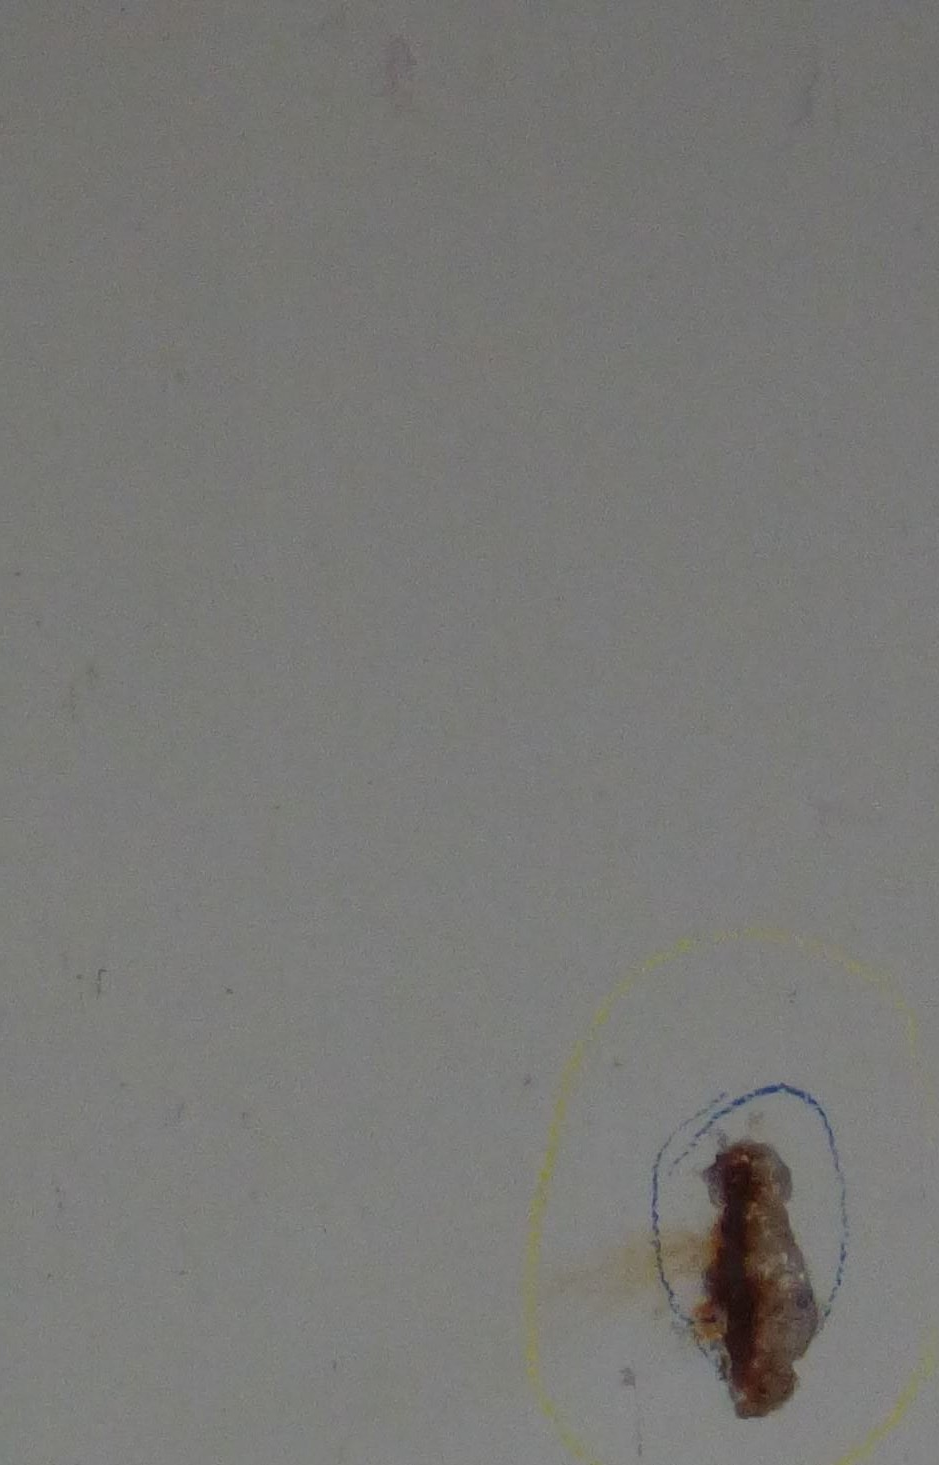Exposed reinforcement: (718, 1161, 757, 1371)
Spalling: (690, 1136, 819, 1420)
